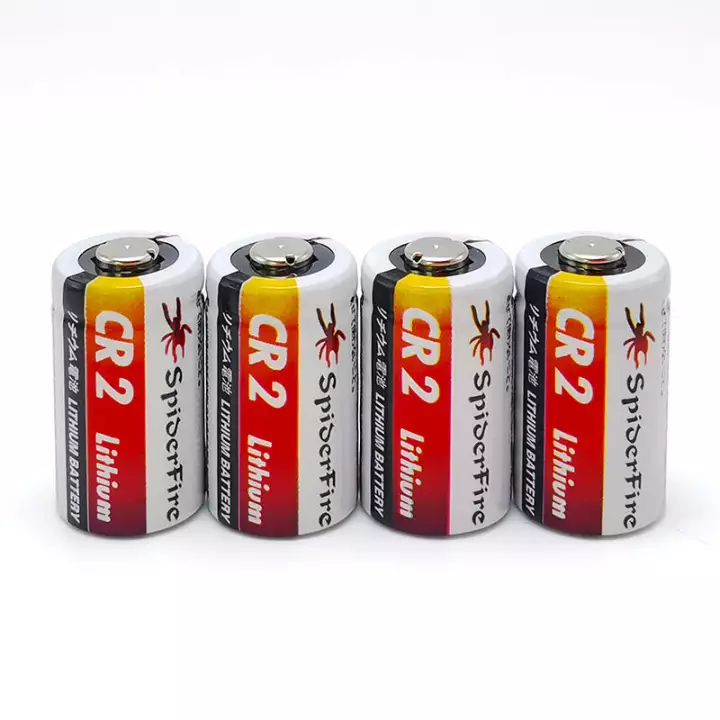Battery: (203, 225, 361, 545), (515, 225, 673, 542), (49, 225, 204, 542), (360, 226, 513, 542)
